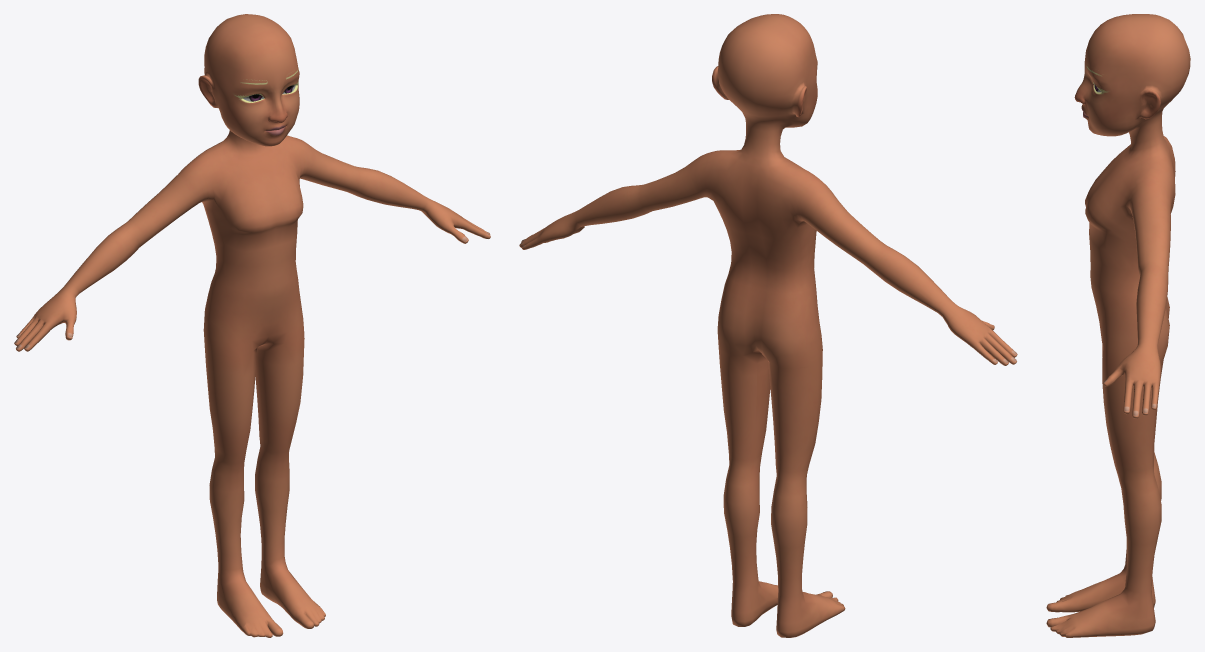
File: frame_0056.glb
3 renders of one model, left to right at view 1: azimuth 30°, elevation 25°; view 2: azimuth 150°, elevation 25°; view 3: azimuth 270°, elevation 25°, orthographic. The views are drawn at different scales.
Parts seen in each view (by area): view 1: frame_0056_head_geo; view 2: frame_0056_head_geo; view 3: frame_0056_head_geo.
Boxes of the visible parts, x1,y1,x2,y2 form: frame_0056_head_geo: [14, 14, 490, 637]; frame_0056_head_geo: [519, 14, 1017, 637]; frame_0056_head_geo: [1046, 14, 1190, 637].
Size of the model in its own units: 1.28 by 1.5 by 0.3253.
3 materials, 3 textured.
